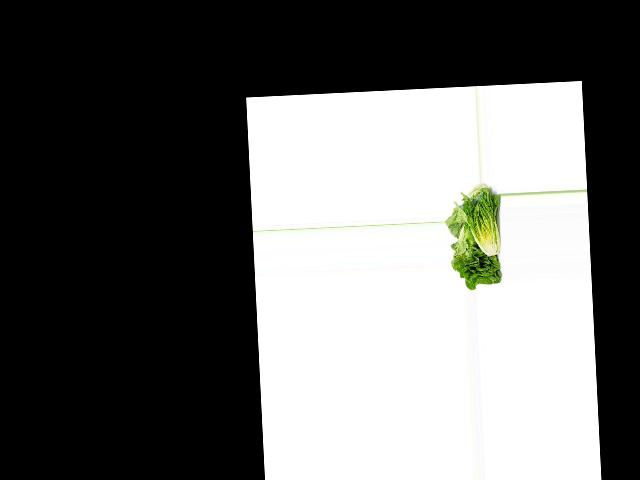lettuce: (449, 225, 505, 288)
